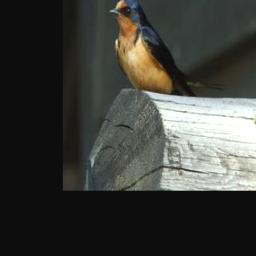Swallow: (108, 0, 227, 96)
